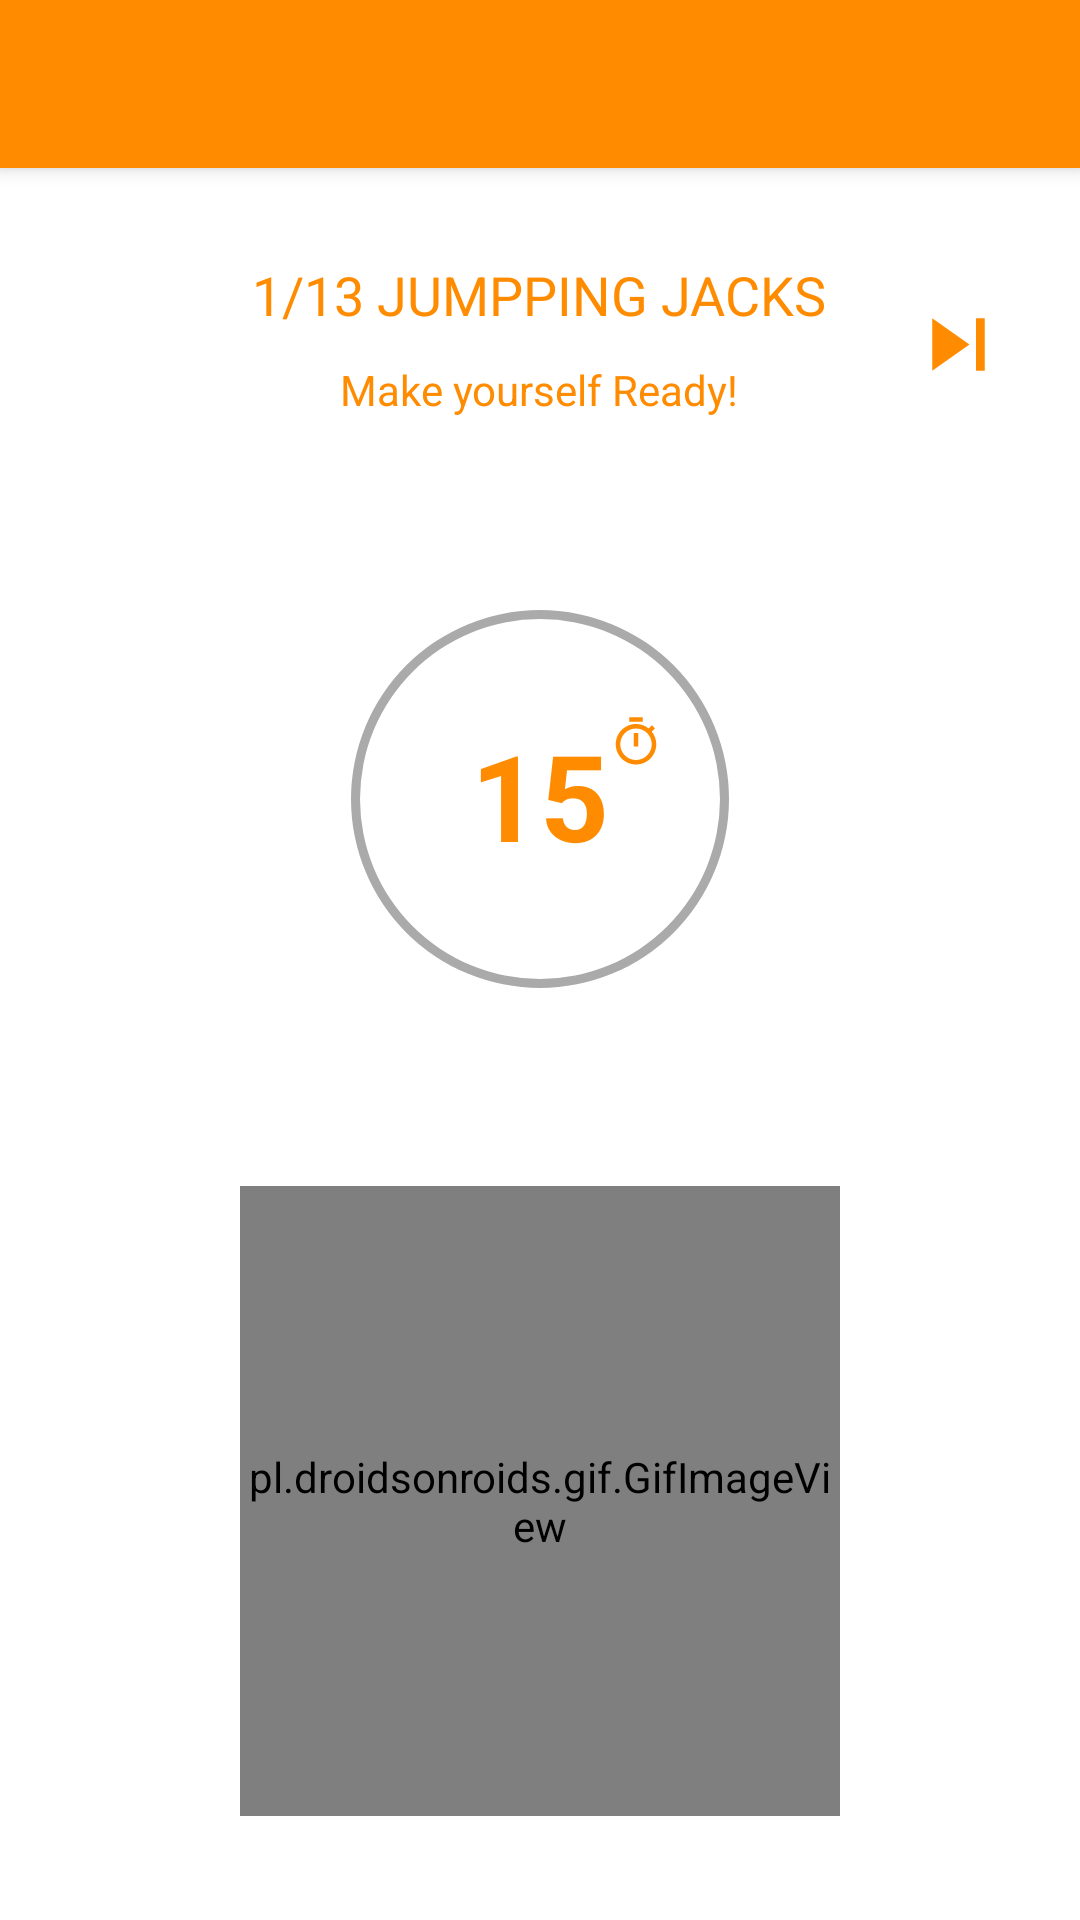

Point at icon controls on the screen. Image size 1080x1920, points as [x,y].
skip next: [958,344]
timer: [636,741]
